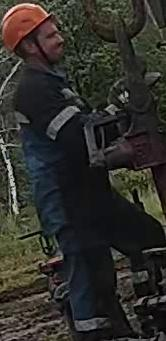helmet: (0, 2, 52, 53)
vest: (13, 70, 85, 215)
